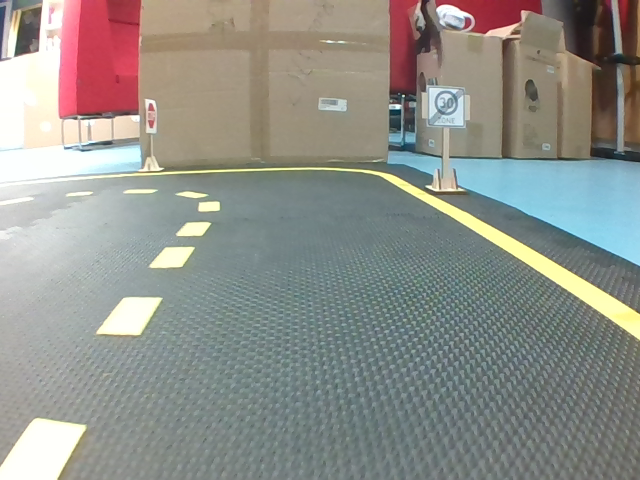no30: (428, 86, 464, 127)
stop: (145, 100, 157, 134)
